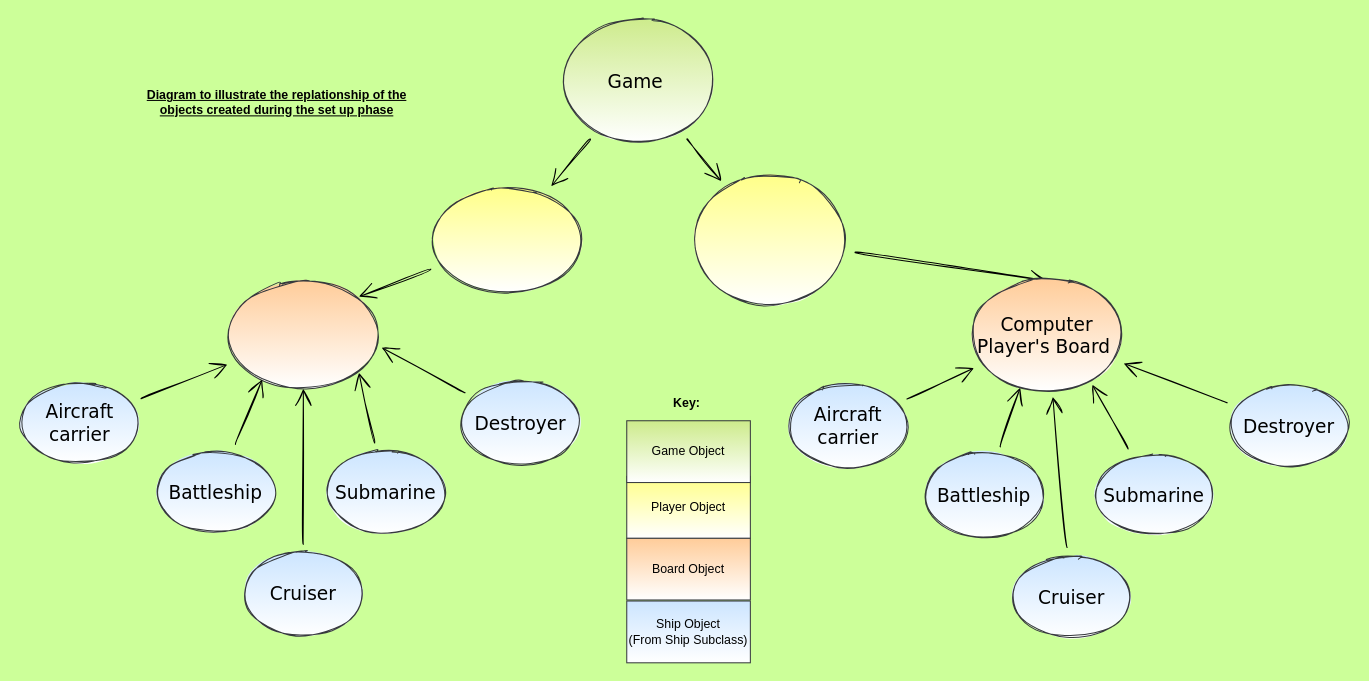
The diagram is 1369 pixels wide and 681 high, and some of its shapes have lost their labels. Each missing label, with the centre of its shape:
"computer Player" belongs at point (769, 239).
"Human Player" belongs at point (507, 239).
"Human Player's Board" belongs at point (303, 334).
